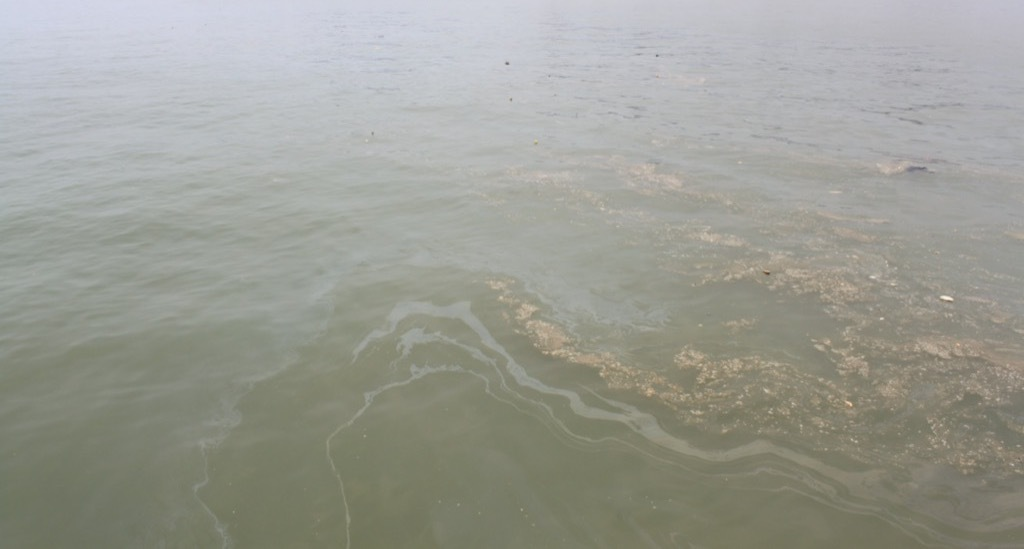organic: (364, 123, 382, 146), (650, 47, 671, 65), (502, 53, 517, 74), (504, 92, 519, 108)
plastic: (934, 281, 964, 316), (752, 258, 784, 290), (526, 131, 556, 158)
